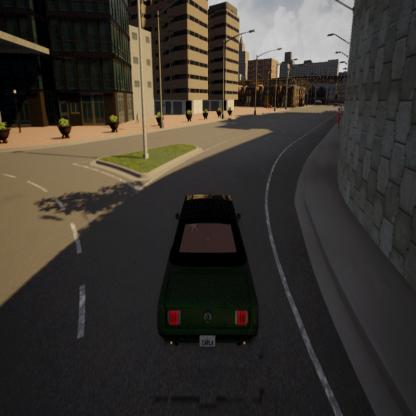Cars: (152, 182, 263, 359), (333, 105, 345, 128)
